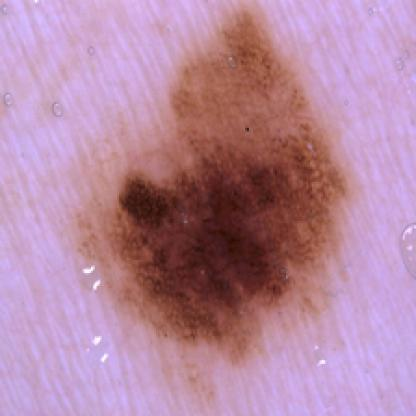Skin_Cancer-Malignant: (78, 6, 353, 365)
